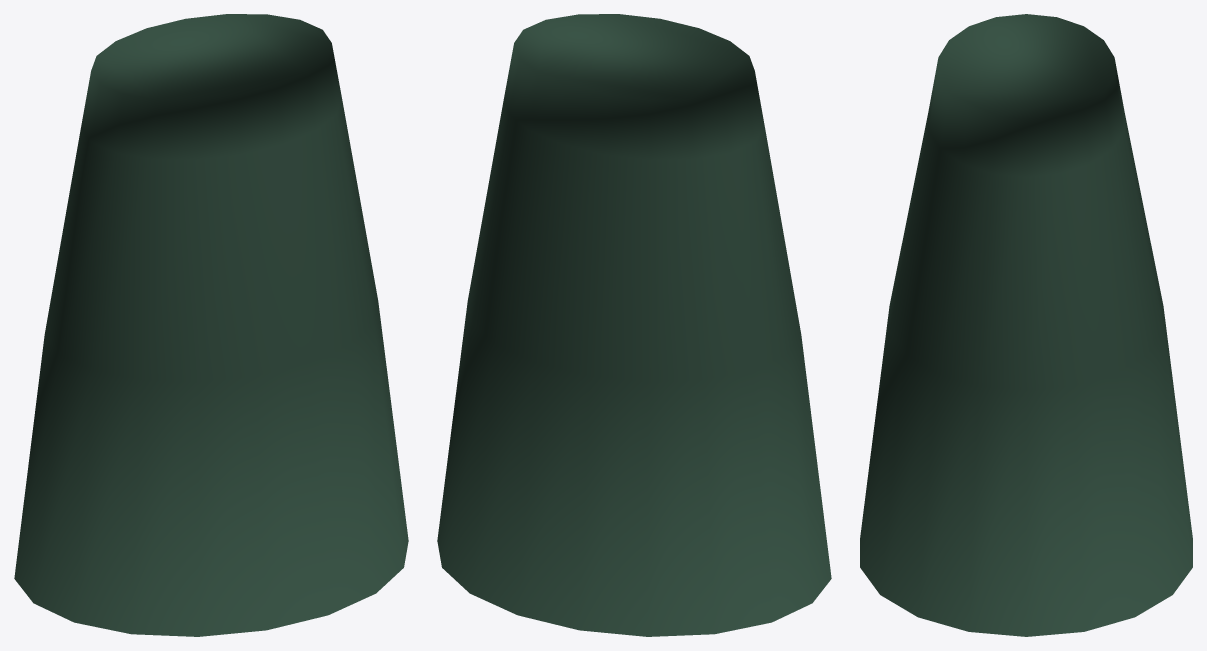
File: anime_skirt.glb
The picture shows the model from 3 angles, left to right: view 1: azimuth 30°, elevation 25°; view 2: azimuth 150°, elevation 25°; view 3: azimuth 270°, elevation 25°; orthographic projection. The views are drawn at different scales.
Parts seen in each view (by area): view 1: skirt; view 2: skirt; view 3: skirt.
Part boxes in pixels (box(x1,y1,x2,y2)): skirt: box(14, 14, 408, 636); skirt: box(437, 14, 831, 636); skirt: box(860, 14, 1192, 636).
Bounding box in the file's own units: 0.4 × 0.54 × 0.3348.
